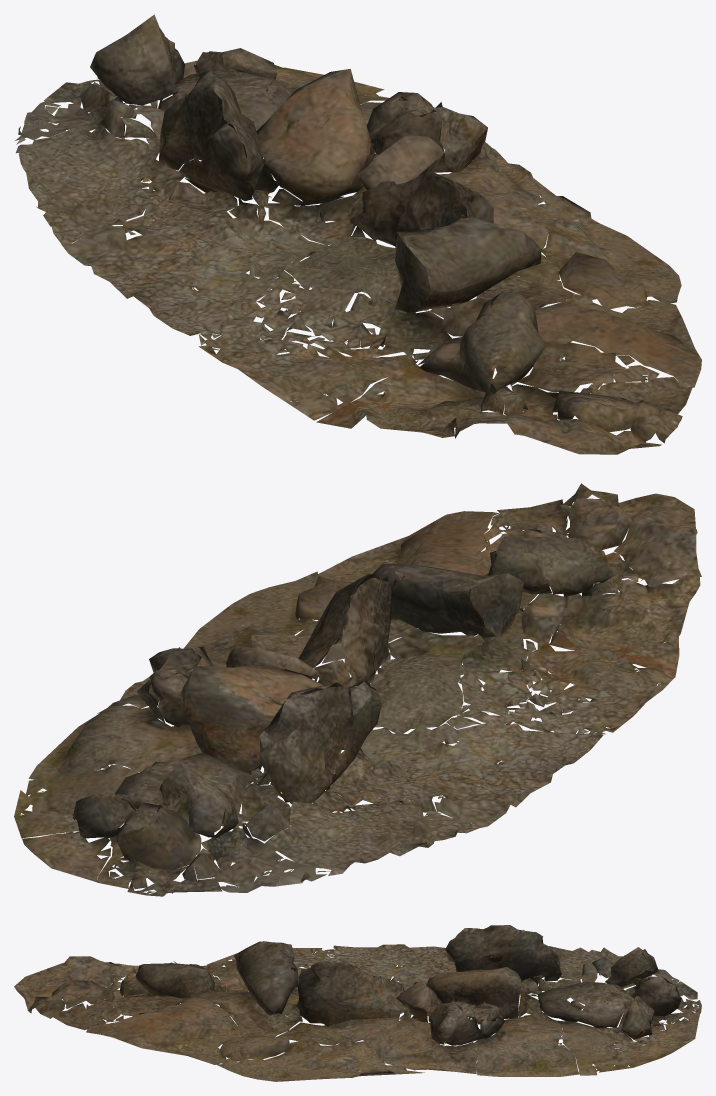
Rendered from ph_coast_land_rocks_02.glb.
3 views of the same model, one above another, from view 1: azimuth 30°, elevation 25°; view 2: azimuth 150°, elevation 25°; view 3: azimuth 270°, elevation 25° (orthographic). The views are drawn at different scales.
Parts seen in each view (by area): view 1: coast_land_rocks_02; view 2: coast_land_rocks_02; view 3: coast_land_rocks_02.
Part boxes in pixels (bbox=[...]): coast_land_rocks_02: bbox=[15, 14, 701, 454]; coast_land_rocks_02: bbox=[14, 483, 701, 896]; coast_land_rocks_02: bbox=[14, 925, 701, 1081].
Size of the model in its own units: 4.89 by 1.39 by 10.44.
1 material, 1 textured.
